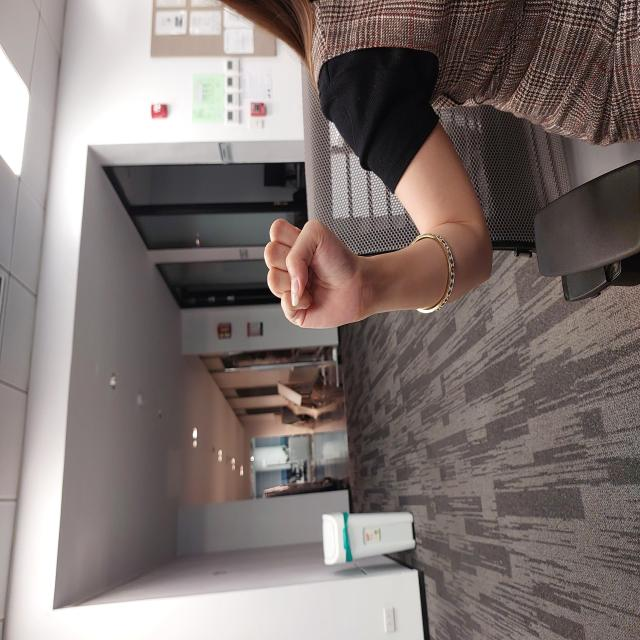S: (309, 262, 426, 370)
